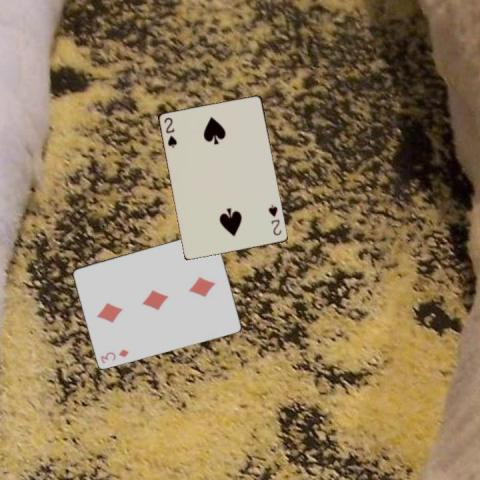2s: (265, 202, 283, 237), (161, 114, 178, 149)
3d: (98, 346, 130, 365)
